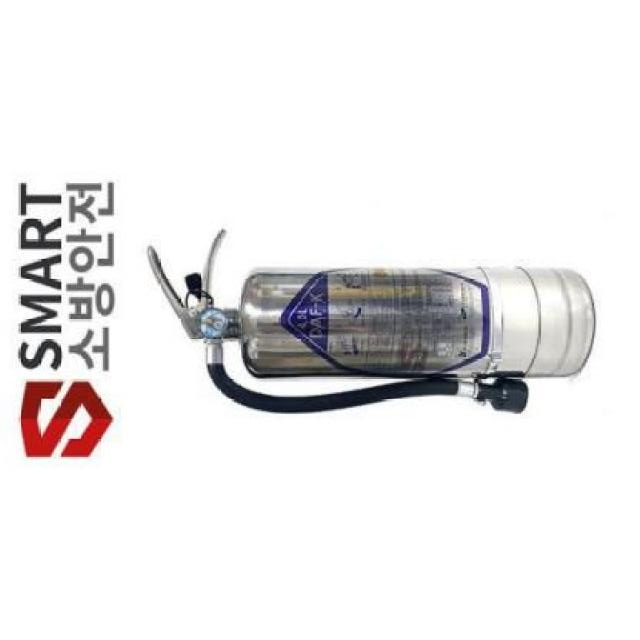fire extinguisher: (147, 229, 596, 415)
